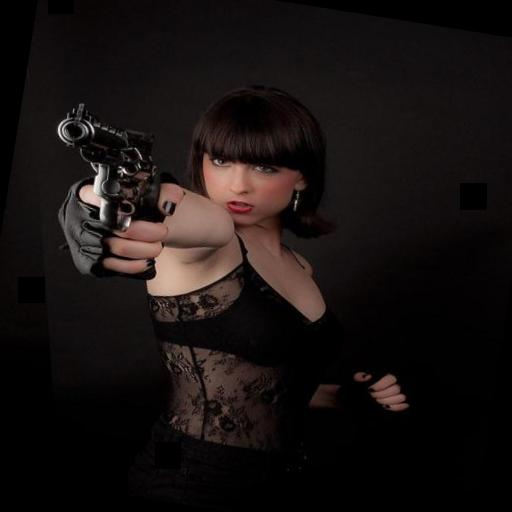Handgun: (33, 92, 174, 238)
